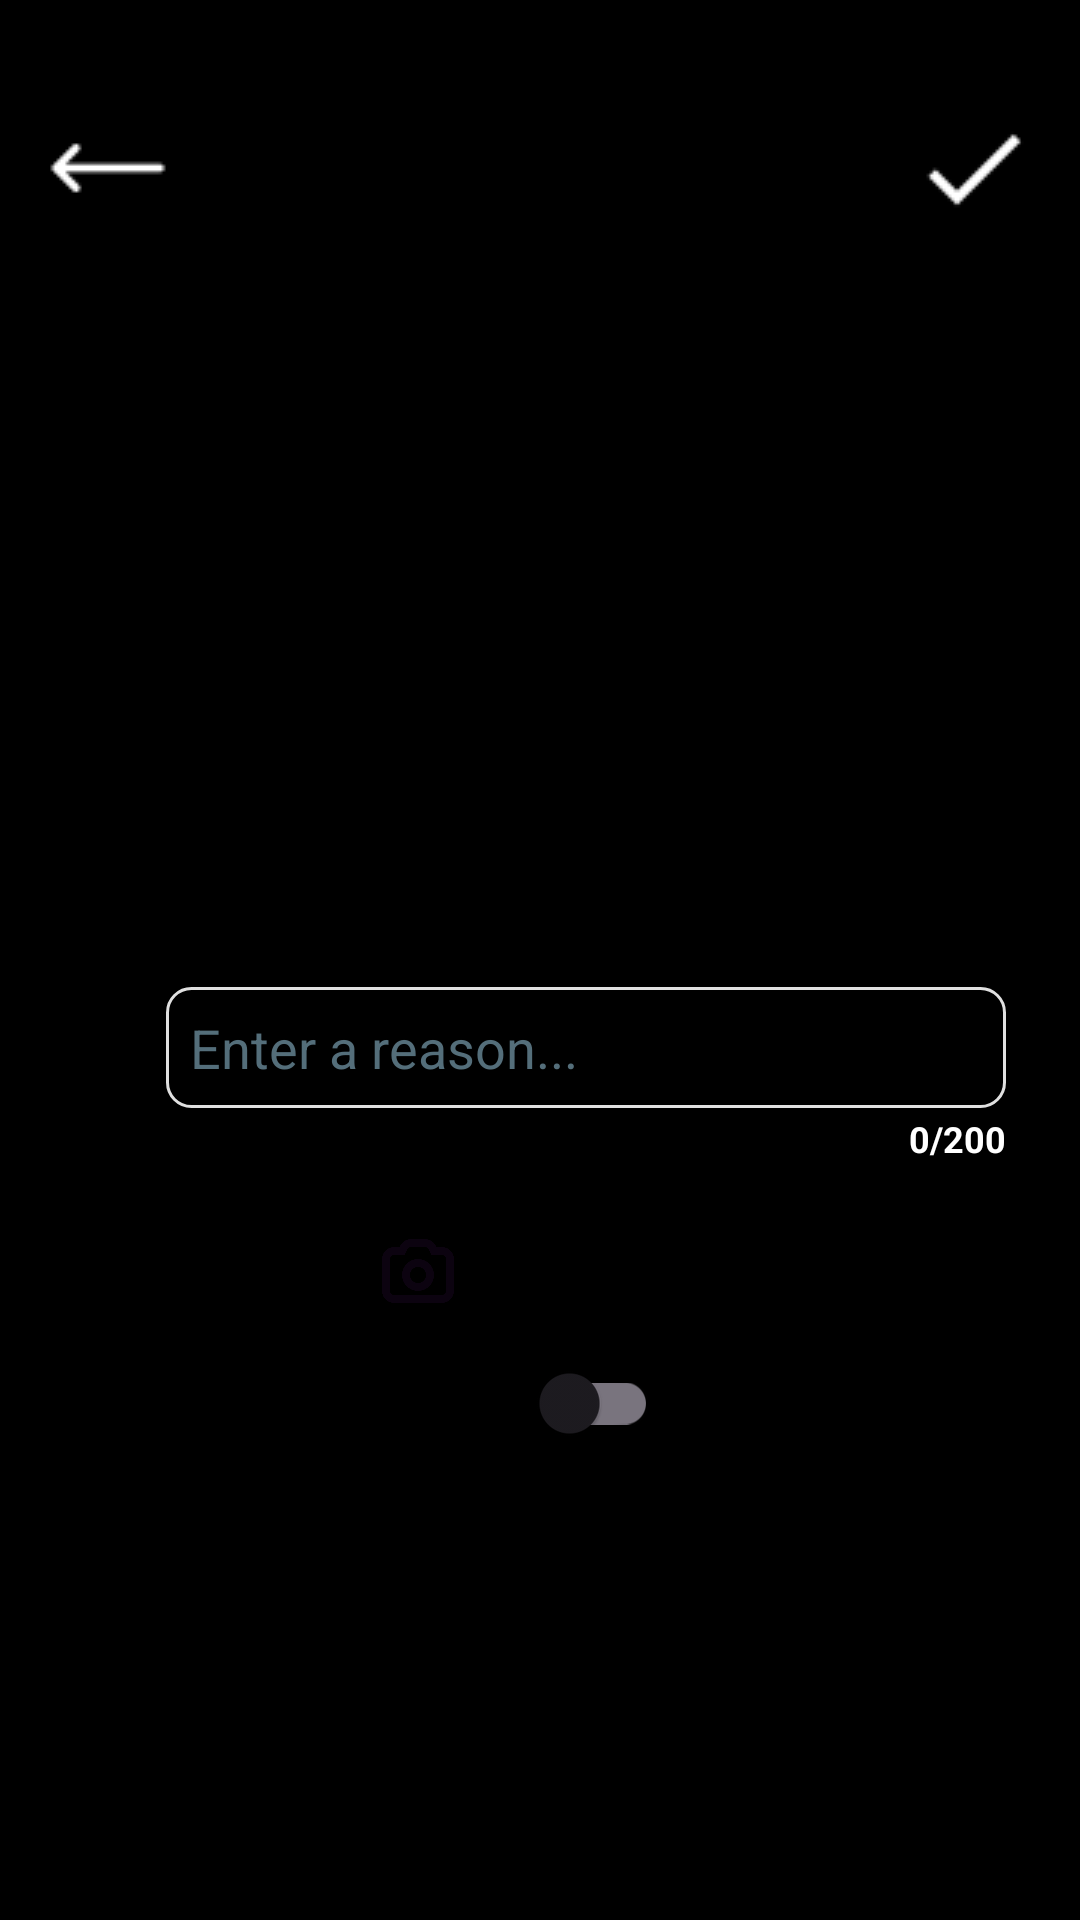

Screen size 1080×1920. Icon name, then its box in pixels as (x1, y1, x2, y2):
Go back: (50, 143, 166, 193)
Submit entry: (927, 134, 1021, 205)
